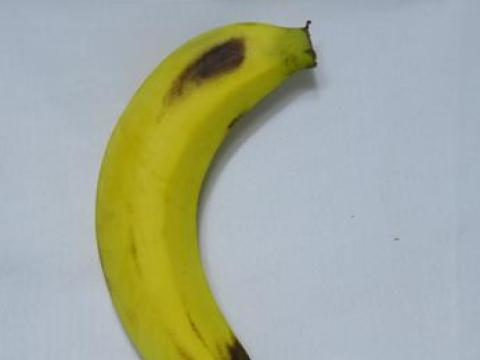freshripe: (80, 12, 330, 359)
